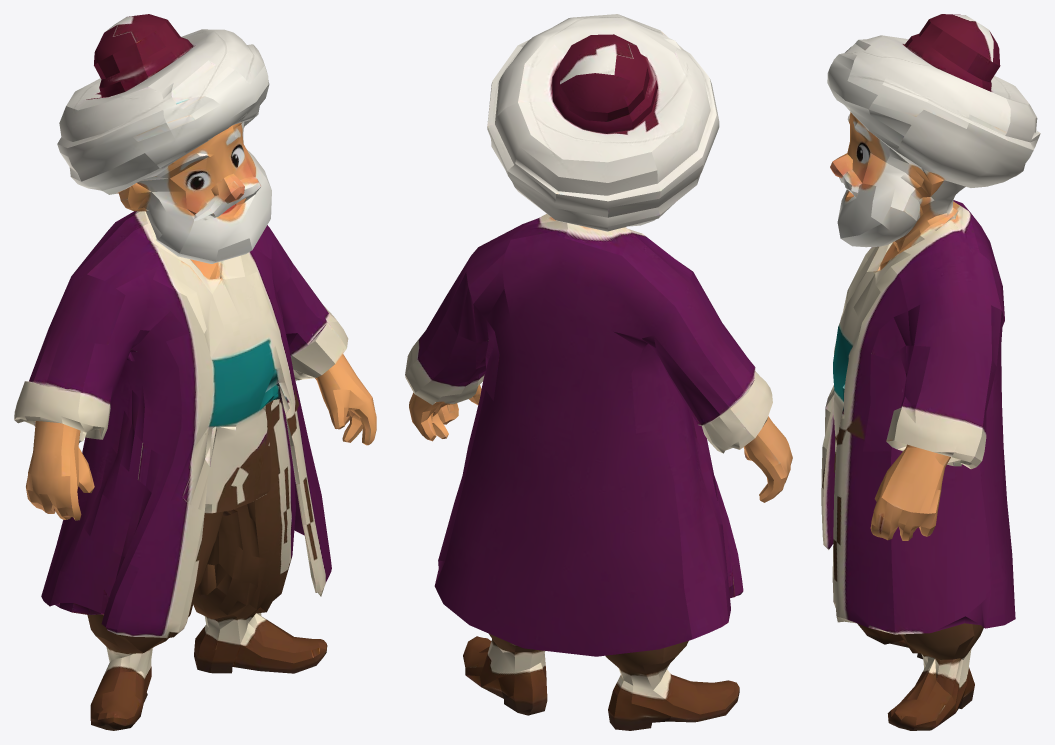
The model's file is hoca.glb.
The picture shows the model from 3 angles, left to right: view 1: azimuth 30°, elevation 25°; view 2: azimuth 150°, elevation 25°; view 3: azimuth 270°, elevation 25°; orthographic projection. The views are drawn at different scales.
Parts seen in each view (by area): view 1: Mesh0; view 2: Mesh0; view 3: Mesh0.
Boxes of the visible parts, <box> form: Mesh0: <box>14,14,376,730</box>; Mesh0: <box>405,14,792,730</box>; Mesh0: <box>821,14,1040,730</box>.
Bounding box in the file's own units: 1.04 × 1.9 × 0.5829.
Materials: 1 (1 with a texture image).
